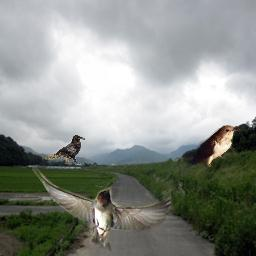Crow: (45, 135, 85, 165)
Cuckoo: (183, 125, 241, 167)
Swallow: (32, 167, 174, 252)
